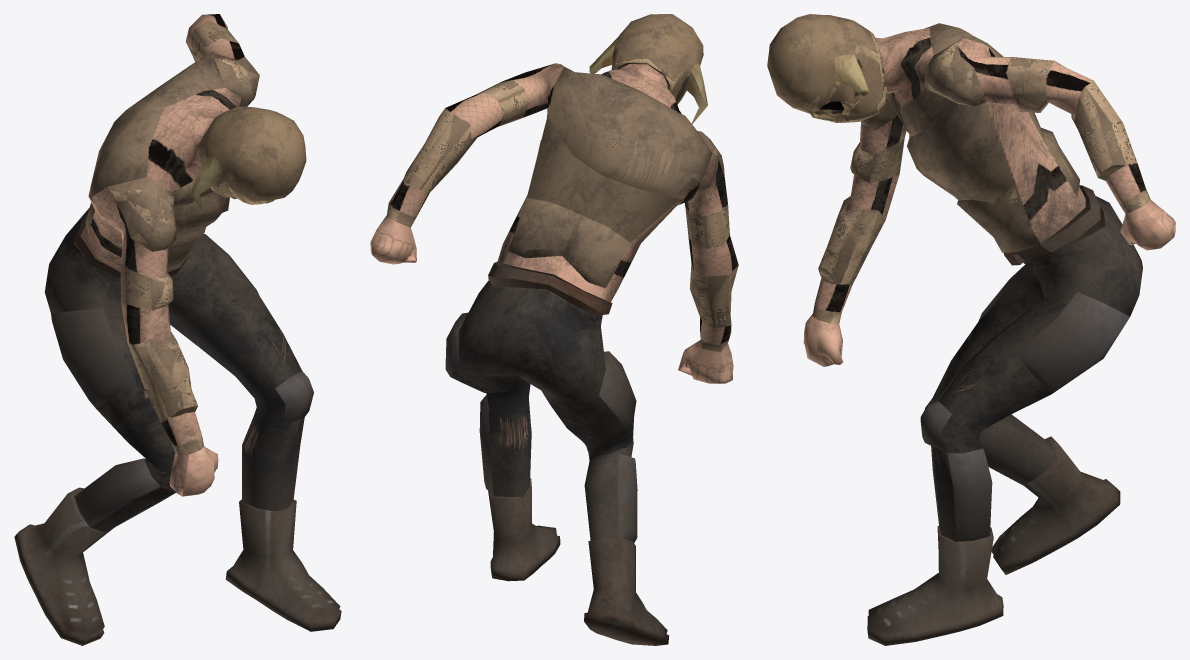
Rendered from Anim_cogerobjeto_npc1.0030.obj.
3 views of the same model, side by side, from view 1: azimuth 30°, elevation 25°; view 2: azimuth 150°, elevation 25°; view 3: azimuth 270°, elevation 25° (orthographic). The views are drawn at different scales.
Parts seen in each view (by area): view 1: NPC2; view 2: NPC2; view 3: NPC2.
Boxes of the visible parts, x1,y1,x2,y2 form: NPC2: (14, 14, 341, 645); NPC2: (370, 14, 738, 645); NPC2: (767, 14, 1175, 645).
Size of the model in its own units: 3.19 by 7.23 by 4.55.
